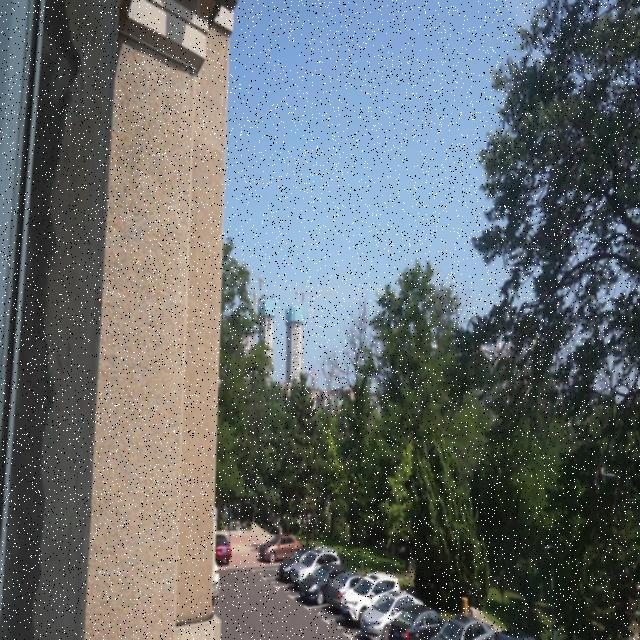UAV: (306, 308, 314, 314)
